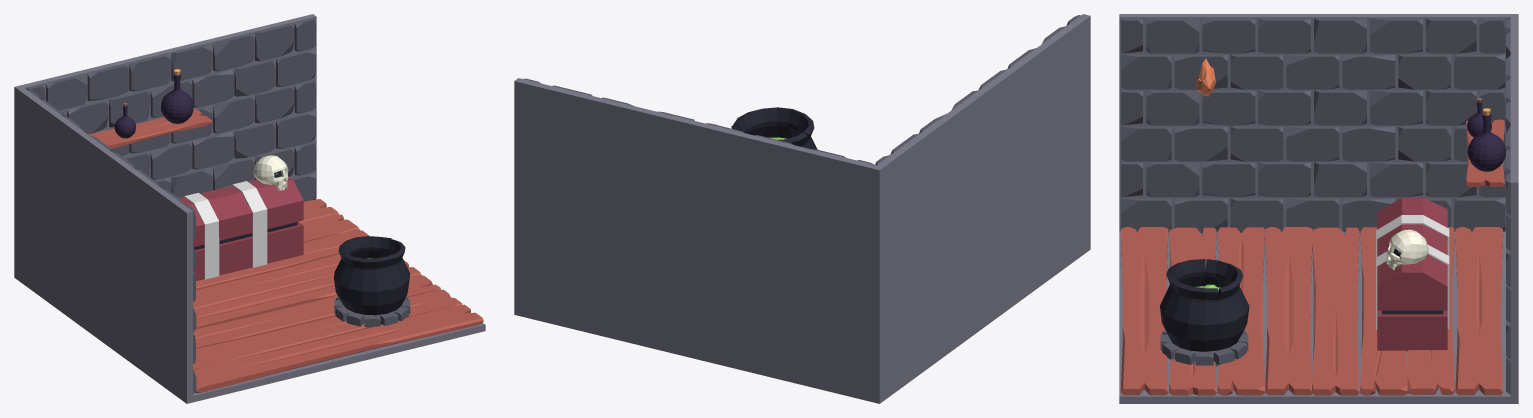
The model's file is witches_cauldron_diorama.glb.
3 views of the same model, side by side, from view 1: azimuth 30°, elevation 25°; view 2: azimuth 150°, elevation 25°; view 3: azimuth 270°, elevation 25° (orthographic). The views are drawn at different scales.
Visible parts, largest first — view 1: floor and walls, brick wall, planks, chest, cauldron, chest bands, SHELF, stones around fireplace, bottle, brick wall.001, Roundcube, bottle small; view 2: floor and walls, cauldron, brick wall.001; view 3: brick wall.001, planks, floor and walls, chest, cauldron, brick wall, chest bands, stones around fireplace, bottle, Roundcube, SHELF, flame mesh - iconosphere (+1 smaller).
Part boxes in pixels (<box>): floor and walls: <box>14,14,485,403</box>; brick wall: <box>27,18,316,201</box>; planks: <box>193,199,483,392</box>; chest: <box>180,176,303,280</box>; cauldron: <box>334,236,410,315</box>; chest bands: <box>179,181,267,279</box>; SHELF: <box>88,109,212,148</box>; stones around fireplace: <box>334,296,410,327</box>; bottle: <box>161,73,193,123</box>; brick wall.001: <box>27,90,196,394</box>; Roundcube: <box>253,155,288,190</box>; bottle small: <box>114,105,135,138</box>; floor and walls: <box>514,14,1090,403</box>; cauldron: <box>731,107,817,149</box>; brick wall.001: <box>875,15,1080,165</box>; brick wall.001: <box>1121,18,1505,233</box>; planks: <box>1120,227,1502,395</box>; floor and walls: <box>1119,14,1518,403</box>; chest: <box>1377,197,1447,351</box>; cauldron: <box>1160,259,1249,351</box>; brick wall: <box>1506,20,1510,394</box>; chest bands: <box>1376,215,1449,329</box>; stones around fireplace: <box>1160,330,1248,365</box>; bottle: <box>1467,113,1505,171</box>; Roundcube: <box>1386,229,1428,269</box>; SHELF: <box>1466,119,1504,186</box>; flame mesh - iconosphere: <box>1196,58,1215,96</box>.
Size of what is drawn, in the model's own units: 8.25 by 5.04 by 8.25.
3 materials, 1 textured.
